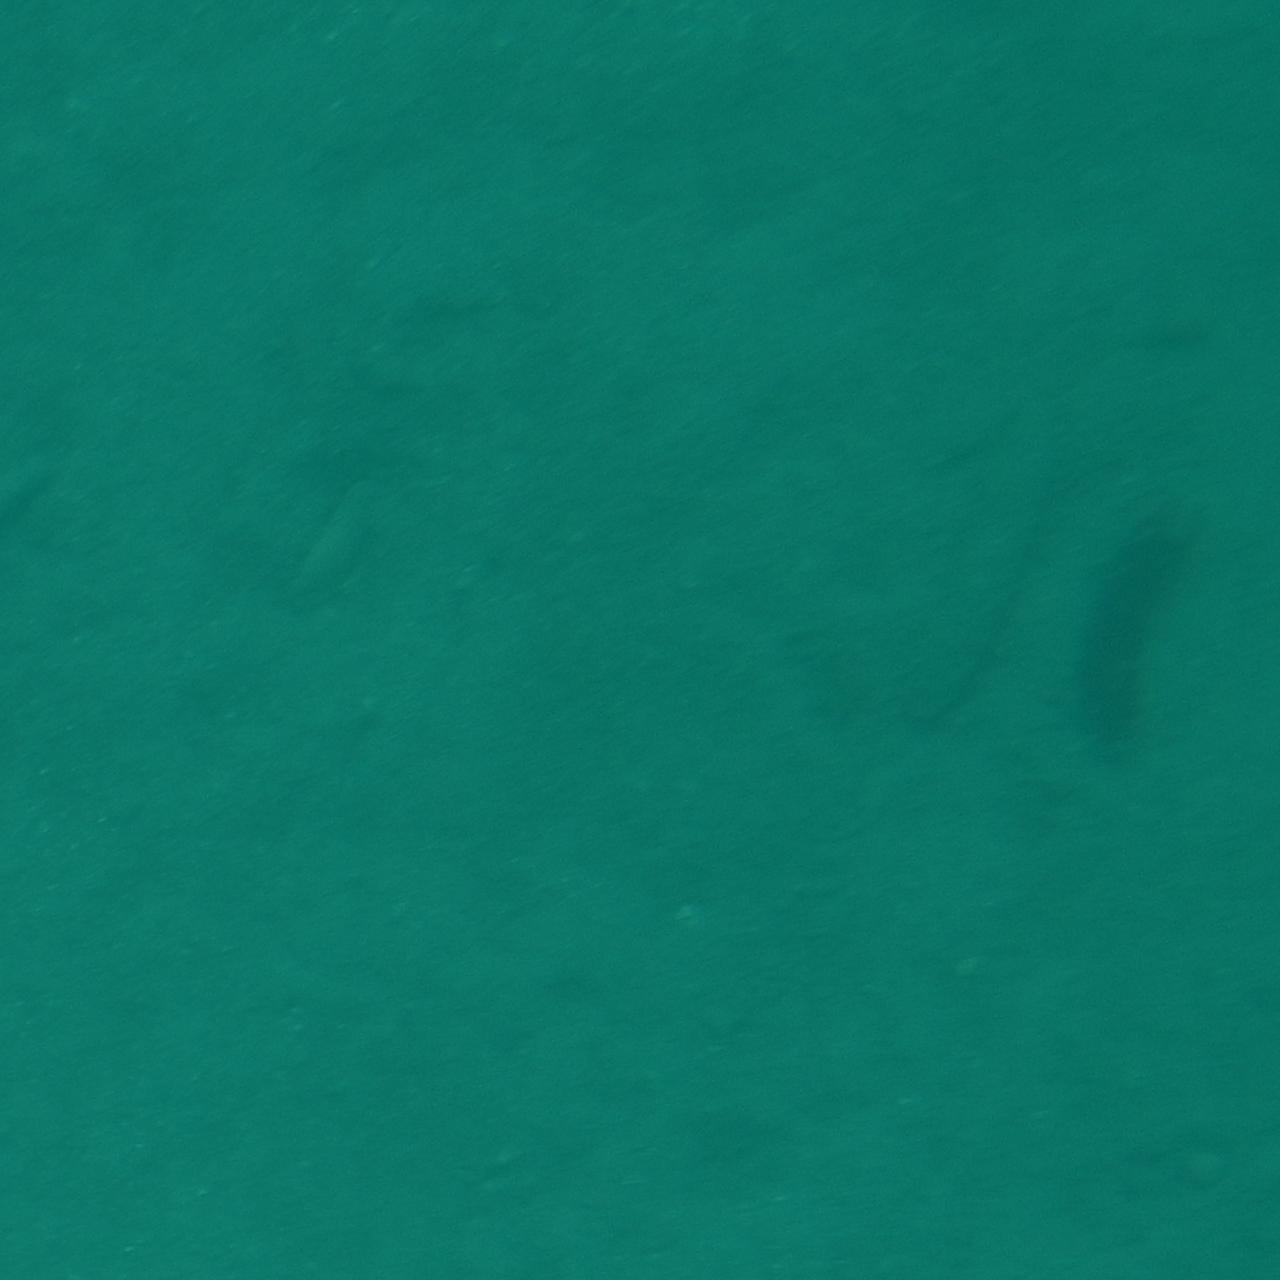Holothuria tubulosa: (1088, 483, 1206, 797)
